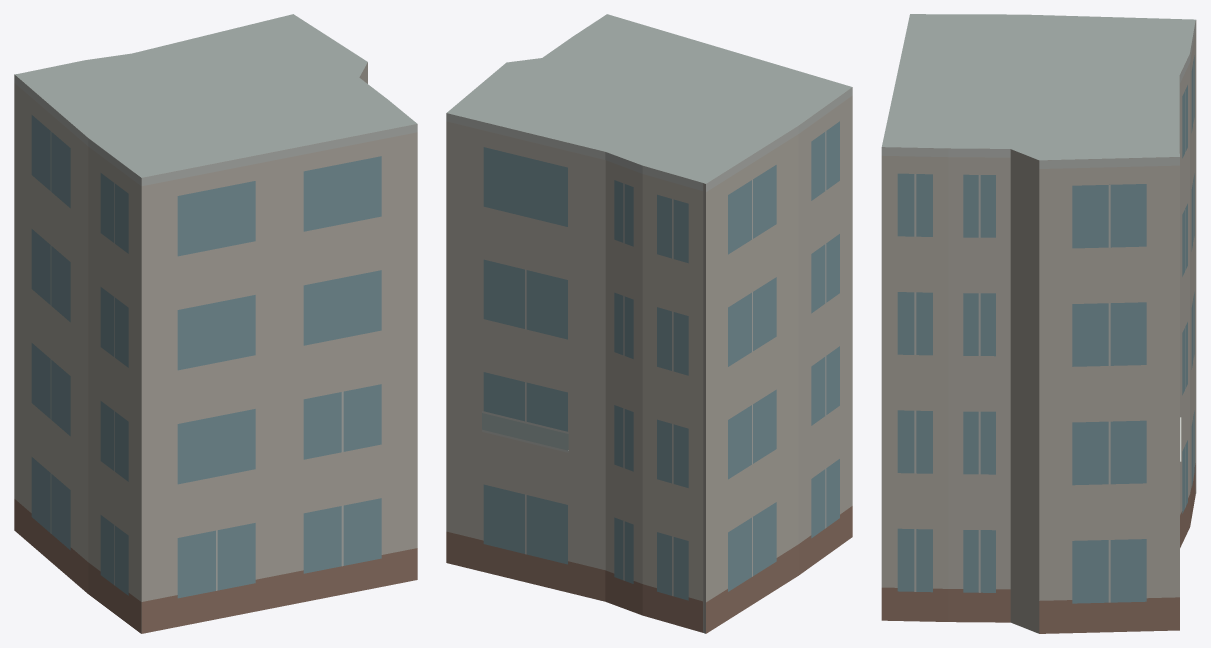
Rendered from survey-upis-32469271.glb.
3 renders of one model, left to right at view 1: azimuth 30°, elevation 25°; view 2: azimuth 150°, elevation 25°; view 3: azimuth 270°, elevation 25°, orthographic. The views are drawn at different scales.
Visible parts, largest first — view 1: survey-upis-32469271.tmp; view 2: survey-upis-32469271.tmp; view 3: survey-upis-32469271.tmp.
Boxes of the visible parts, box(x1,y1,x2,y2) form: survey-upis-32469271.tmp: box(14, 14, 417, 633); survey-upis-32469271.tmp: box(446, 14, 852, 633); survey-upis-32469271.tmp: box(881, 14, 1196, 633).
Size of the model in its own units: 8.76 by 13.2 by 7.96.
